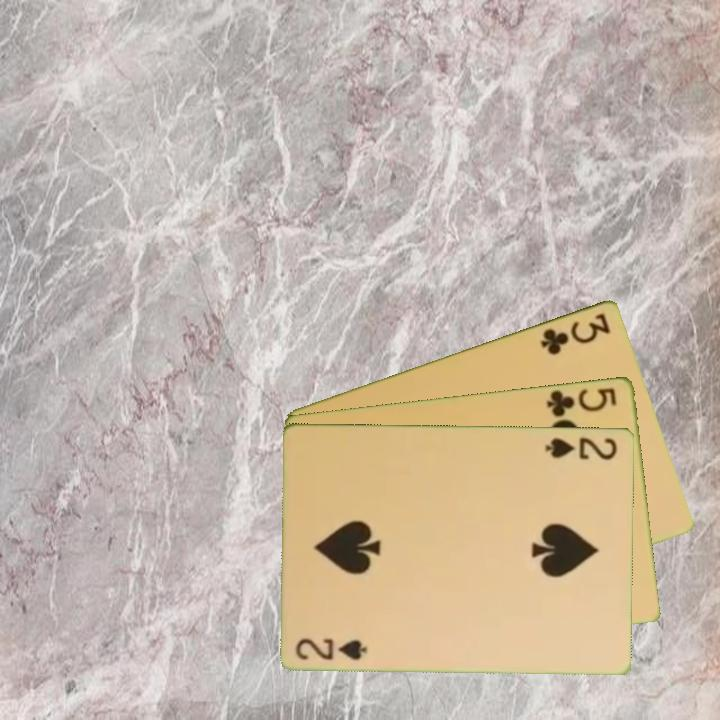2s: (542, 433, 620, 462), (292, 634, 370, 663)
3c: (537, 309, 614, 357)
5c: (544, 383, 620, 419)
